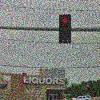traffic lights: (58, 12, 73, 44)
